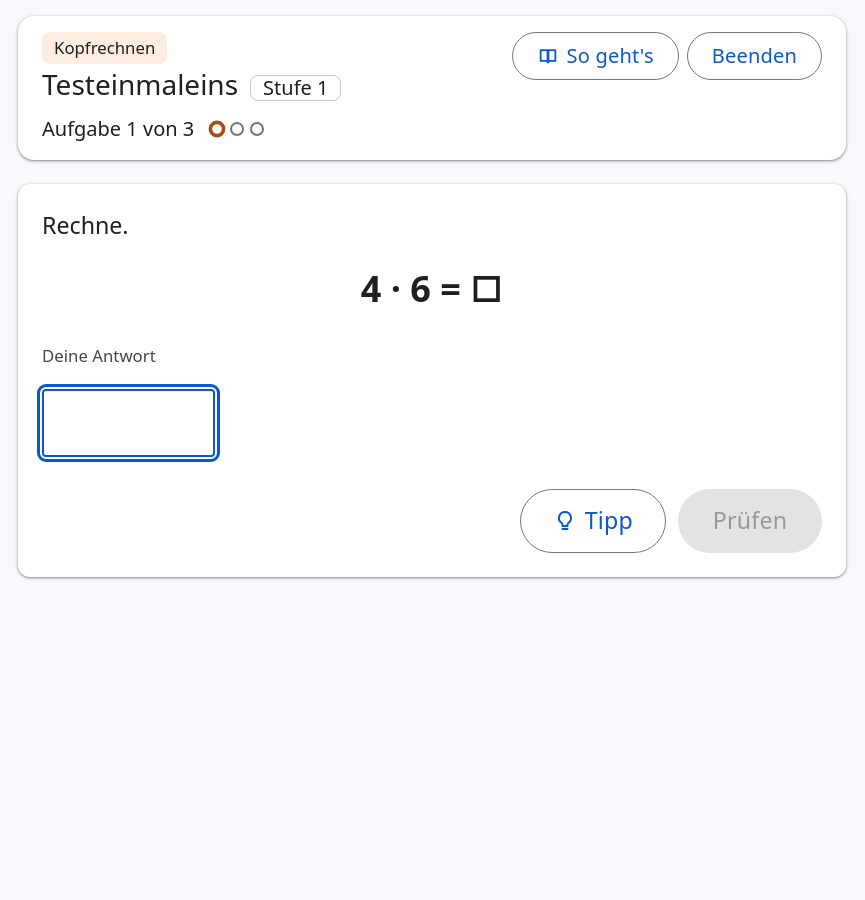
Test: PracticePage: item flow › 2nd wrong → worked solution, revealed answer, Zwillingsaufgabe inserted, recorded as not solved
Expected: the button "Prüfen" is shown, [678,489,822,553]
Type "1" into the field labelled "Deine Antwort". click: (129, 423)
box: [42,389,215,457]
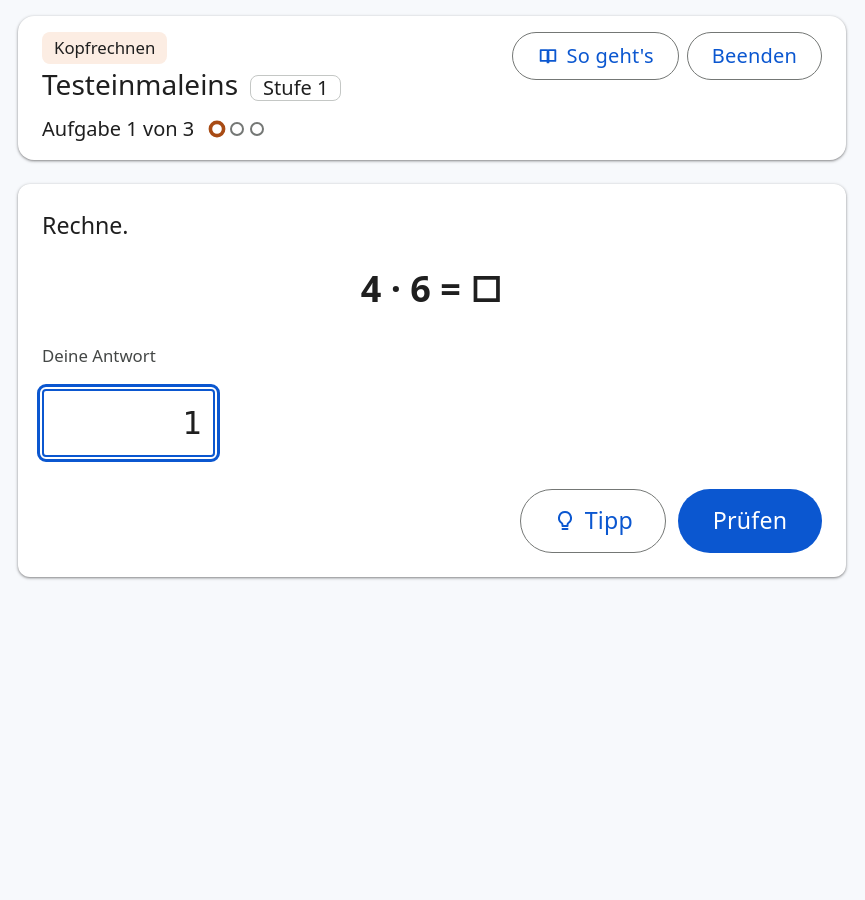
Click the button "Prüfen". click: (750, 521)
box: [678,489,822,553]
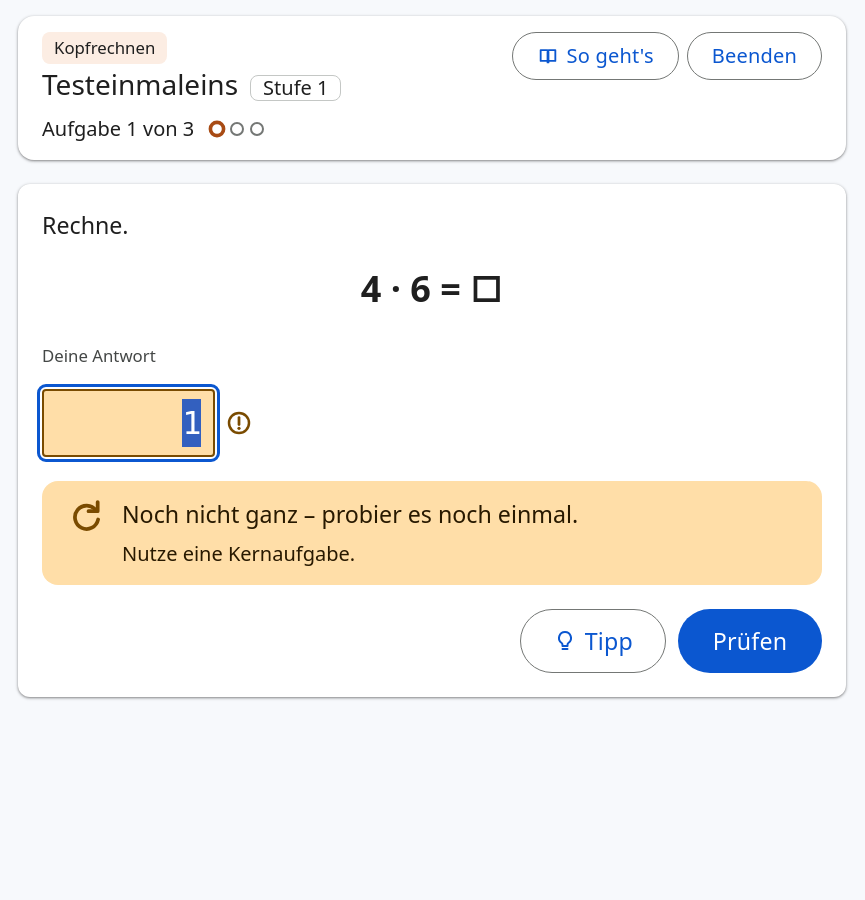
Replace the text in the field labelled "Deine Antwort" with "2". click: (129, 423)
box: [42,389,215,457]
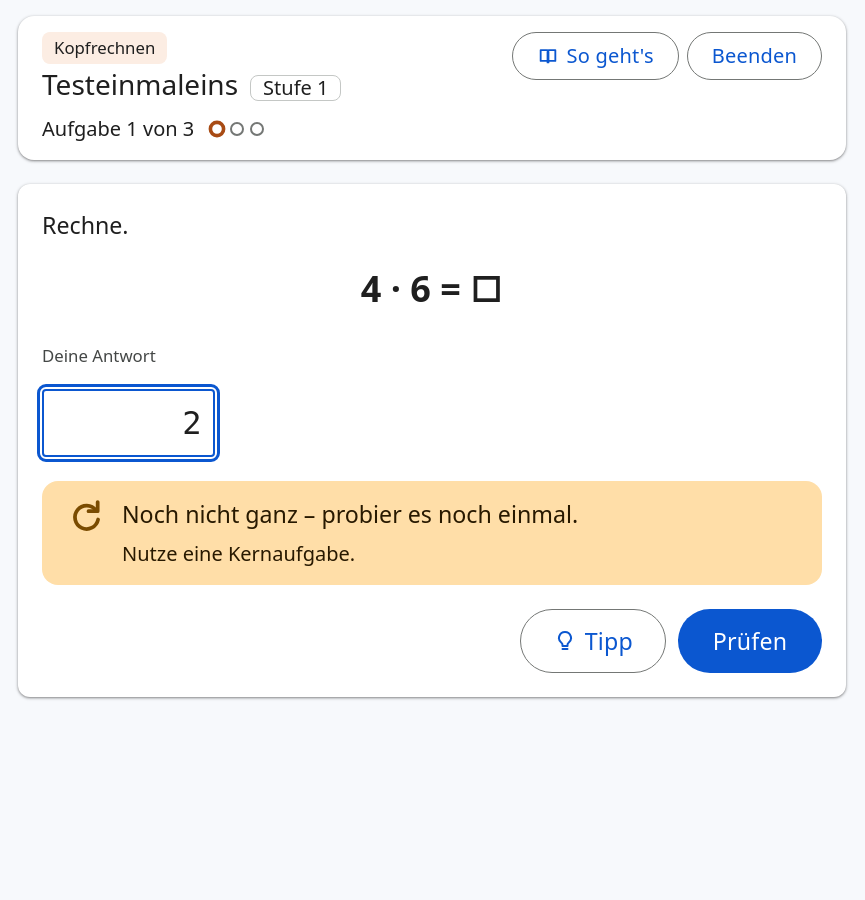
Click the button "Prüfen". click: (750, 641)
box: [678,609,822,673]
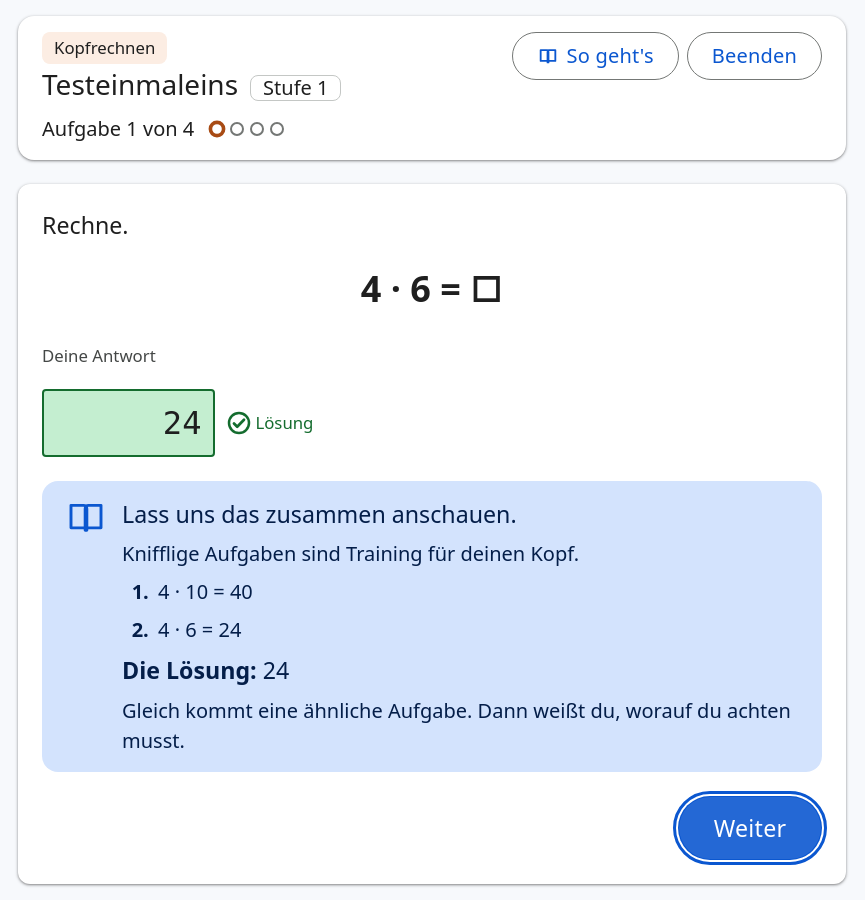
Now the text "Lass uns das zusammen anschauen." is shown, box [122,498,517,530]
Now the text "Die Lösung:" is shown, box [122,654,263,686]
Now the field labelled "Deine Antwort" holds "24", box [42,389,215,457]
